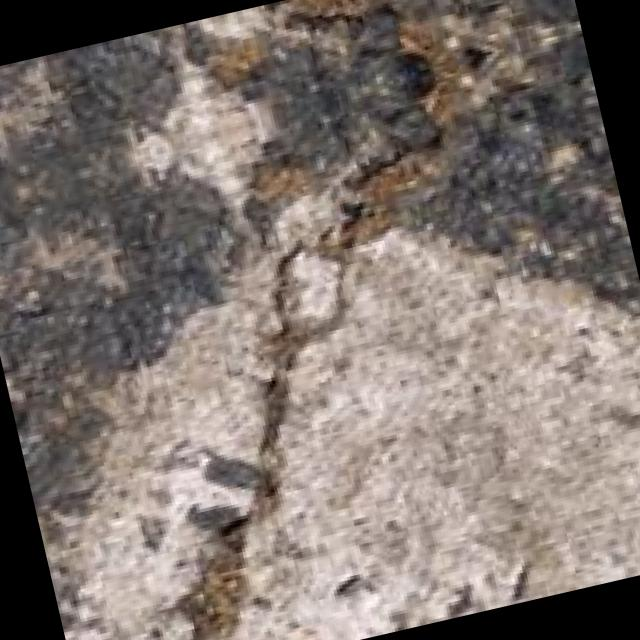crack: (5, 209, 522, 640)
